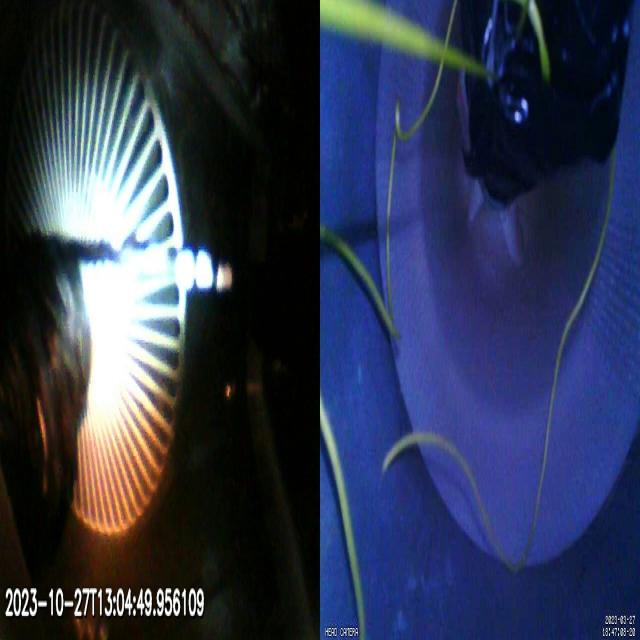white-dots: (175, 249, 232, 292)
